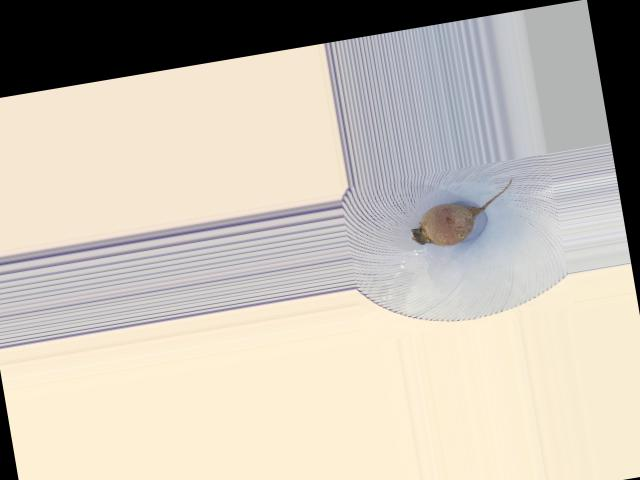beet: (404, 178, 520, 250)
